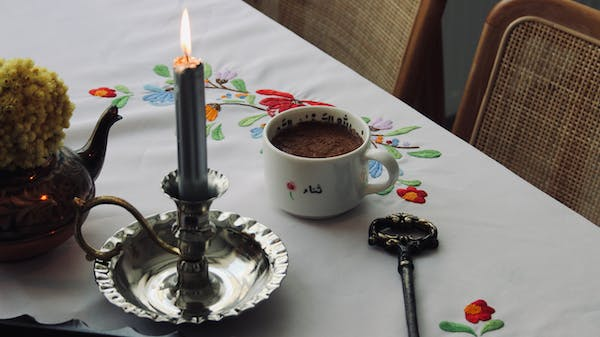key: (367, 212, 441, 337)
